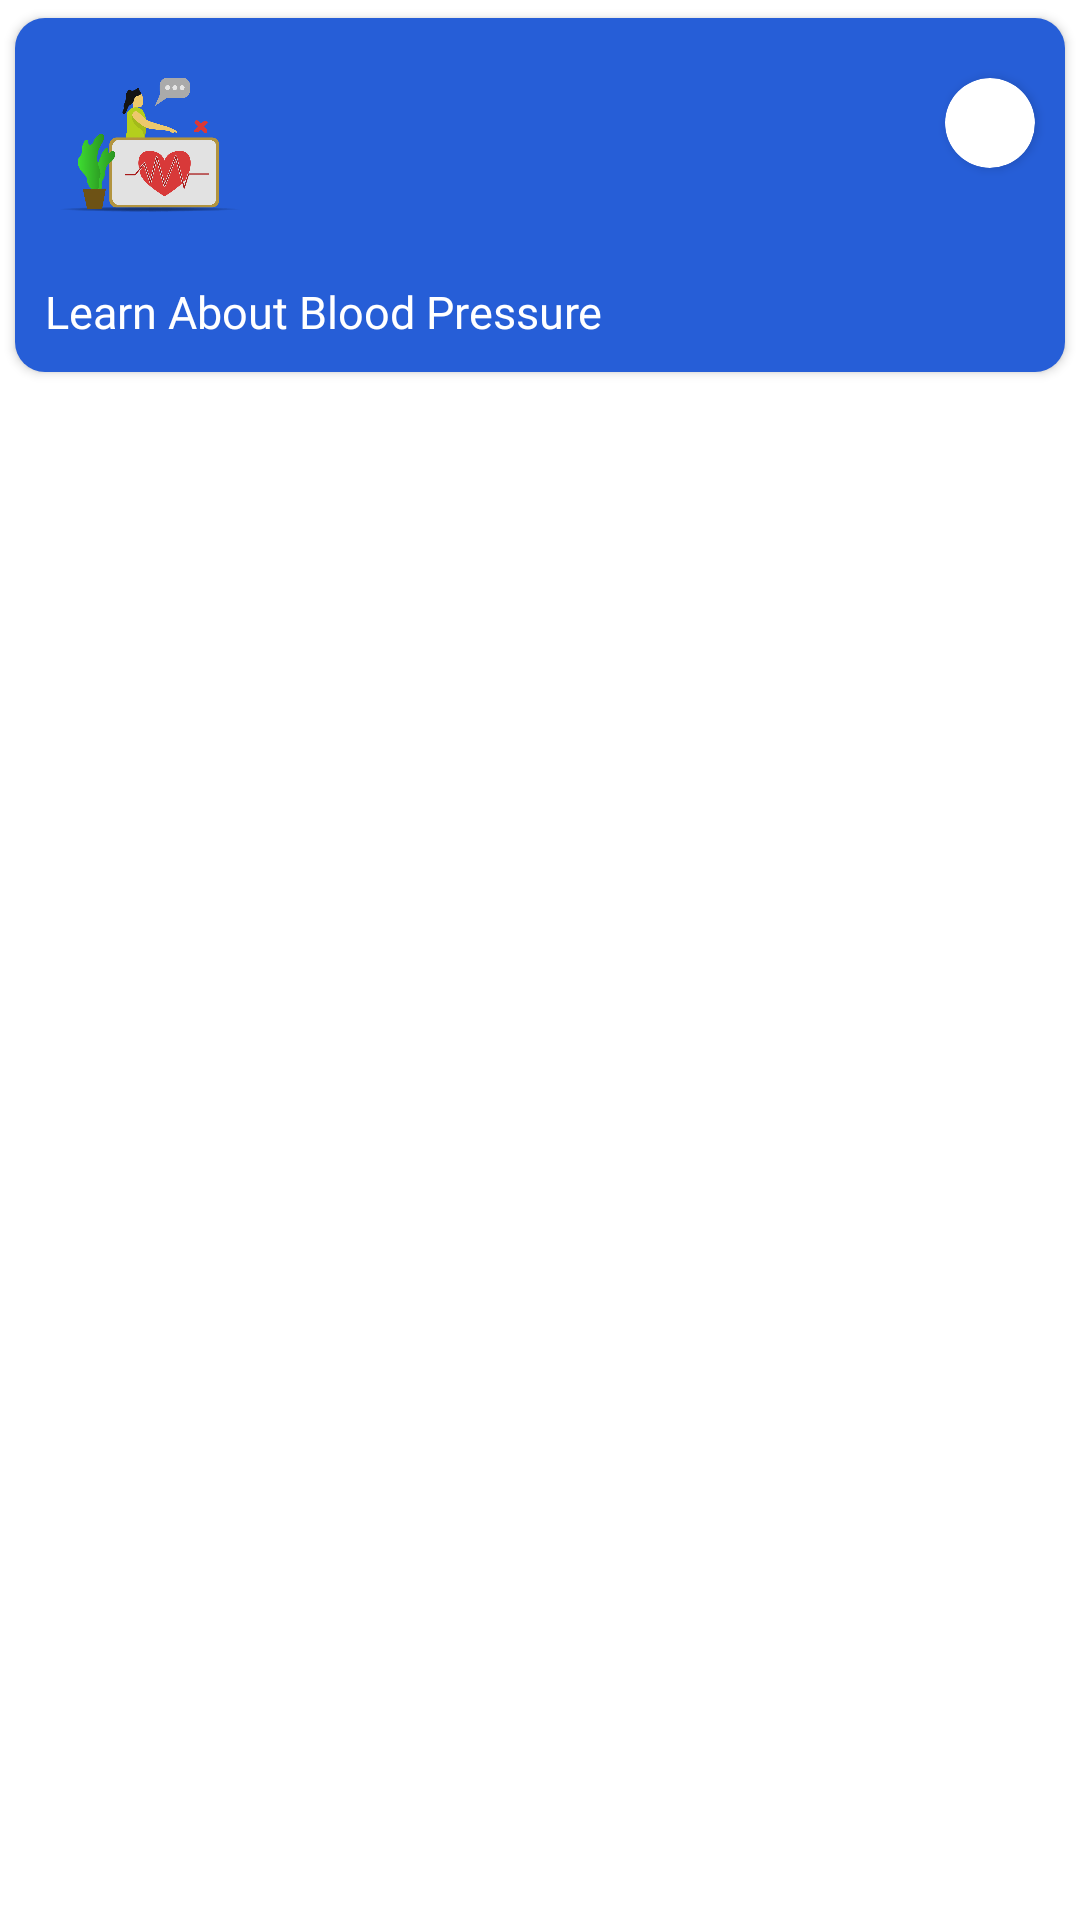

Icons on this 1080w x 1920h Android screen, each with its box as (x1, y1, x2, y2):
heart beats: (71, 78, 227, 212)
